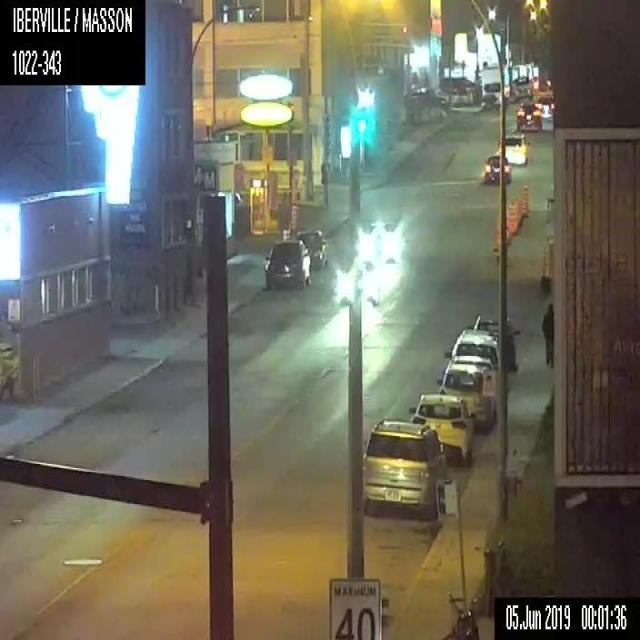construction: (540, 247, 553, 290), (507, 201, 517, 235), (520, 182, 530, 215), (494, 209, 501, 252), (289, 200, 297, 232)
pedestrian: (542, 301, 553, 367)
vehicle: (361, 418, 450, 517), (407, 390, 475, 468), (435, 364, 497, 433), (467, 311, 520, 368), (332, 257, 382, 310), (263, 239, 311, 289), (354, 219, 403, 267), (444, 327, 502, 363), (294, 229, 327, 266), (480, 67, 502, 110), (504, 132, 529, 166), (483, 154, 511, 183), (515, 100, 542, 130), (511, 67, 533, 101), (534, 95, 554, 124)
